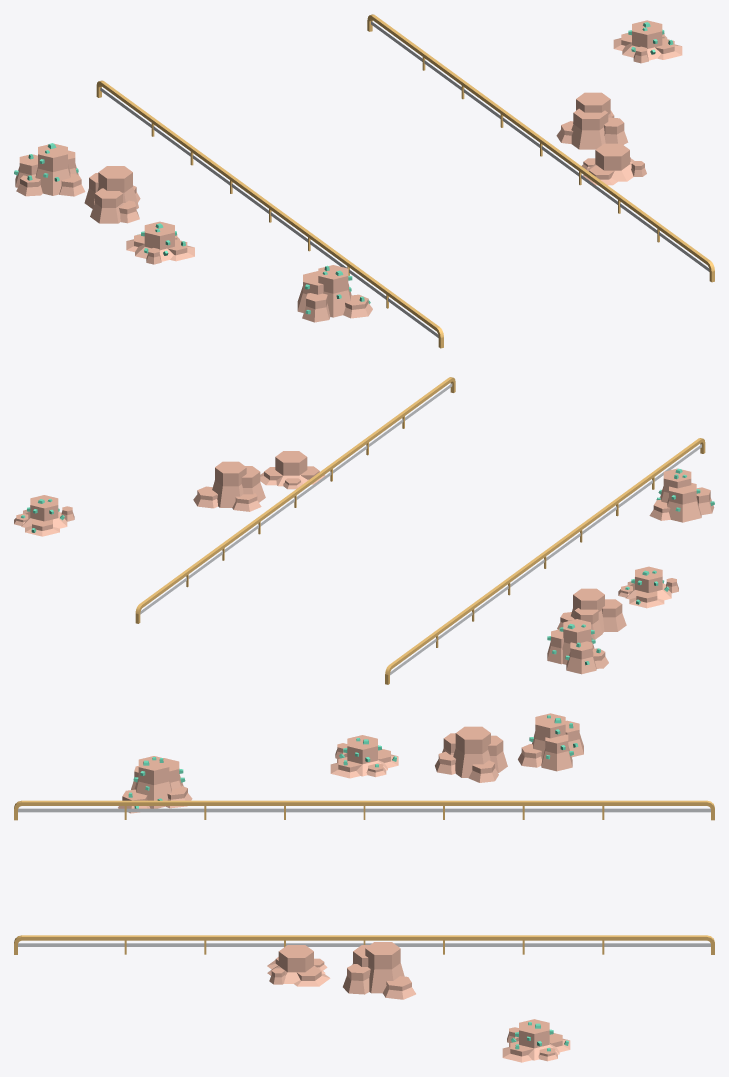
The model's file is road_straight.glb.
The picture shows the model from 3 angles, top to bottom: view 1: azimuth 30°, elevation 25°; view 2: azimuth 150°, elevation 25°; view 3: azimuth 270°, elevation 25°; orthographic projection. The views are drawn at different scales.
Visible parts, largest first — view 1: road_straight; view 2: road_straight; view 3: road_straight.
Part boxes in pixels (x1,y1,x2,y2): road_straight: (14,14,714,348); road_straight: (14,377,714,684); road_straight: (14,713,714,1062).
Bounding box in the file's own units: 9.57 × 0.55 × 8.8.
